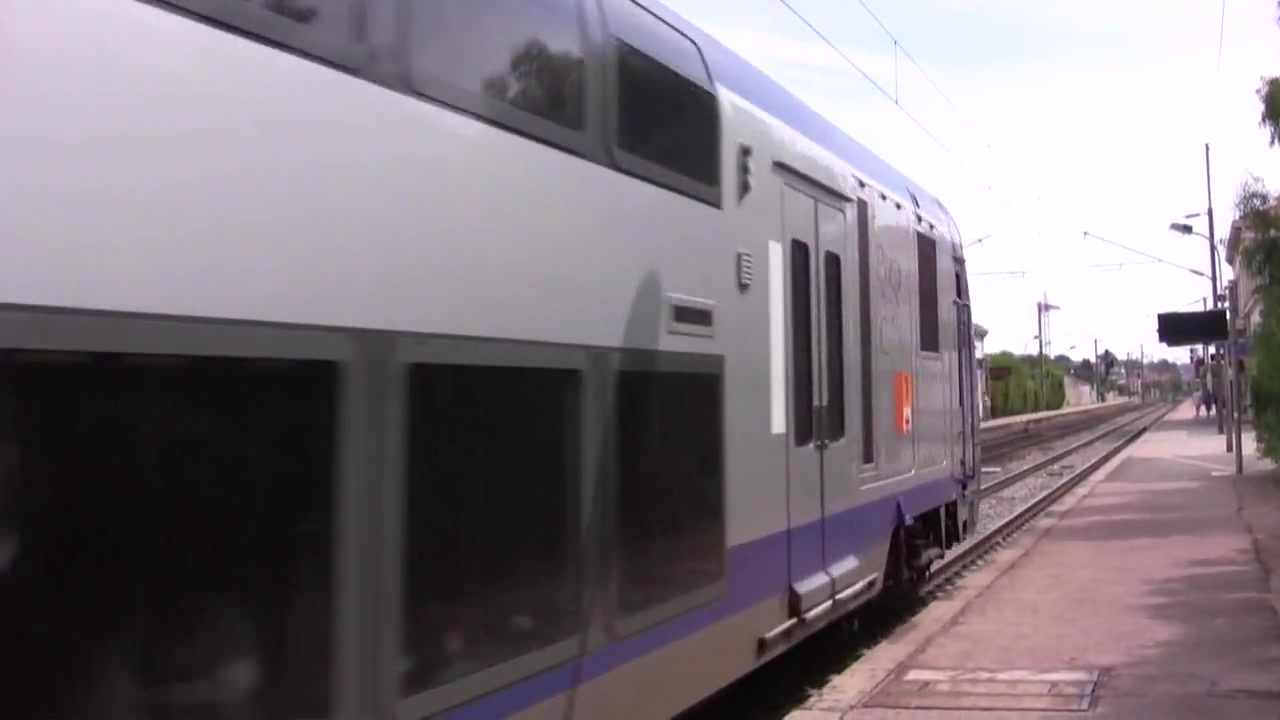train: (1, 1, 985, 720)
